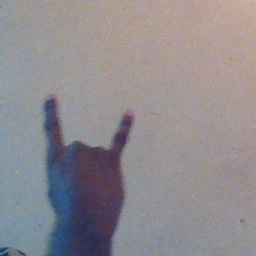V: (38, 88, 145, 231)
